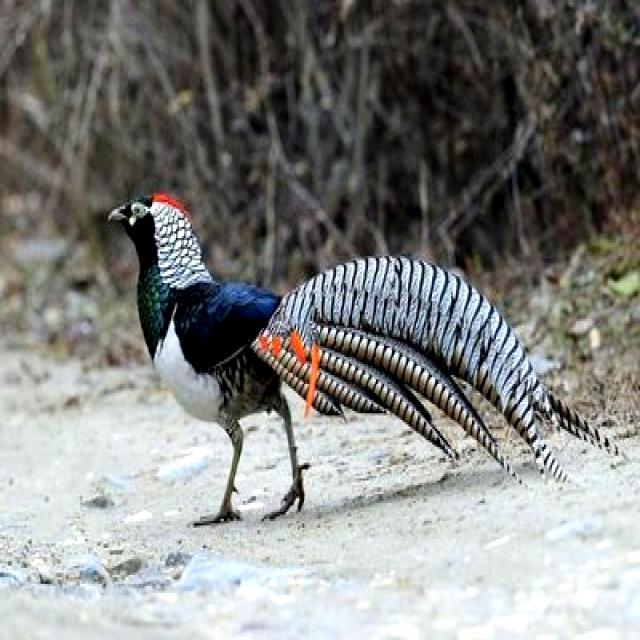Chrysolophus amherstiae: (251, 258, 610, 478)
